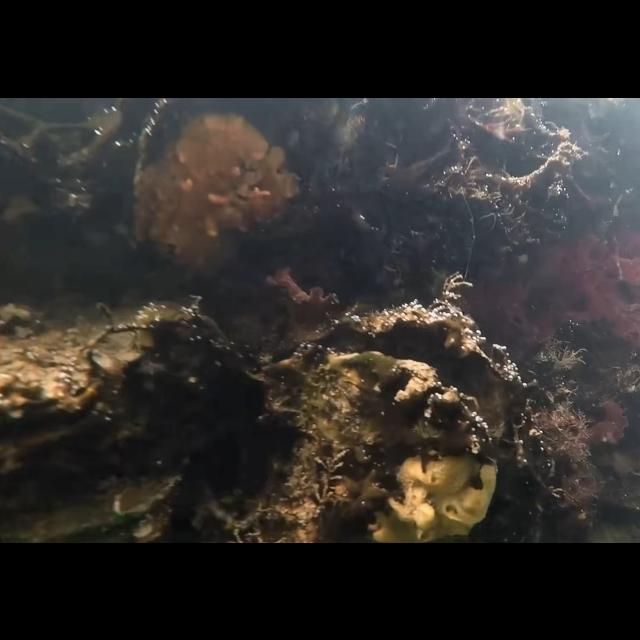Oyster-Closed: (132, 97, 302, 279)
Oyster-Open: (262, 304, 508, 542), (0, 300, 202, 464), (17, 470, 184, 542)
